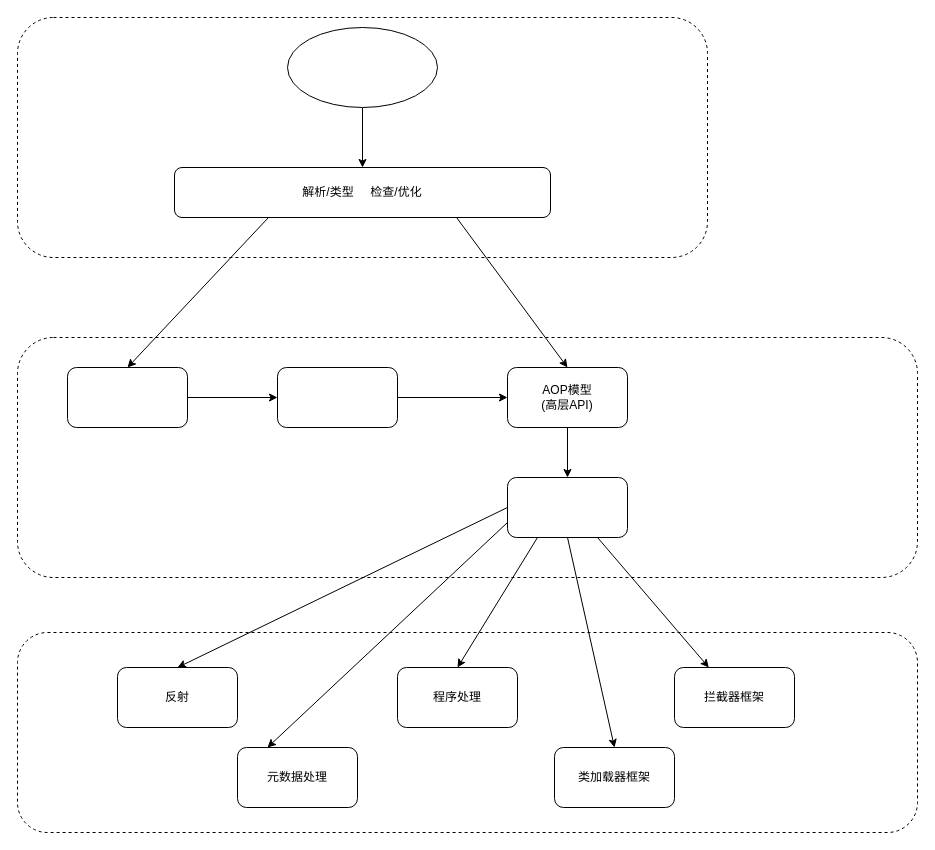
This 935x850 diagram has some shape labels left out. Here are the shapes that lost their labels. From the top down, the box of each, then its label:
(286, 26, 438, 108): AOP程序 (基础 + 切面 + (配置)）)
(66, 366, 188, 428): 配置模型 (高层API)
(276, 366, 398, 428): 配置逻辑
(506, 476, 628, 538): 编织逻辑
